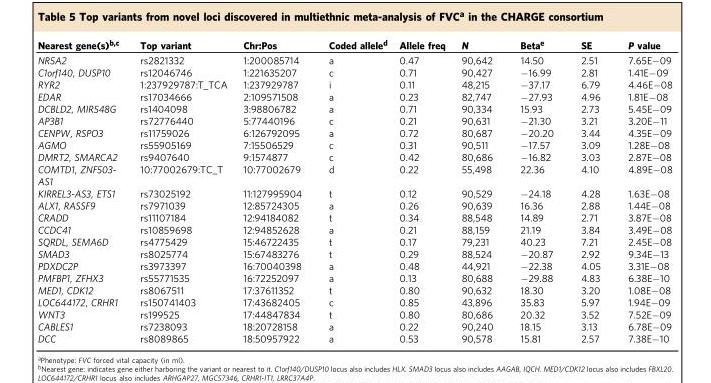table: (36, 37, 671, 343)
table column: (128, 37, 234, 343), (36, 37, 128, 343), (234, 37, 314, 343), (314, 37, 392, 343), (392, 37, 452, 343), (506, 37, 566, 343), (613, 37, 671, 343), (452, 37, 506, 343), (566, 37, 613, 343)
table column header: (36, 37, 671, 51)
table row: (36, 162, 671, 186), (36, 37, 671, 51), (36, 51, 671, 65), (36, 101, 671, 114), (36, 222, 671, 235), (36, 65, 671, 77), (36, 77, 671, 89), (36, 89, 671, 101), (36, 114, 671, 126), (36, 126, 671, 138), (36, 138, 671, 150), (36, 150, 671, 162), (36, 186, 671, 198), (36, 198, 671, 210), (36, 210, 671, 222), (36, 235, 671, 247), (36, 247, 671, 259), (36, 259, 671, 271), (36, 271, 671, 283), (36, 283, 671, 295), (36, 295, 671, 307), (36, 307, 671, 319), (36, 319, 671, 331), (36, 331, 671, 343)
